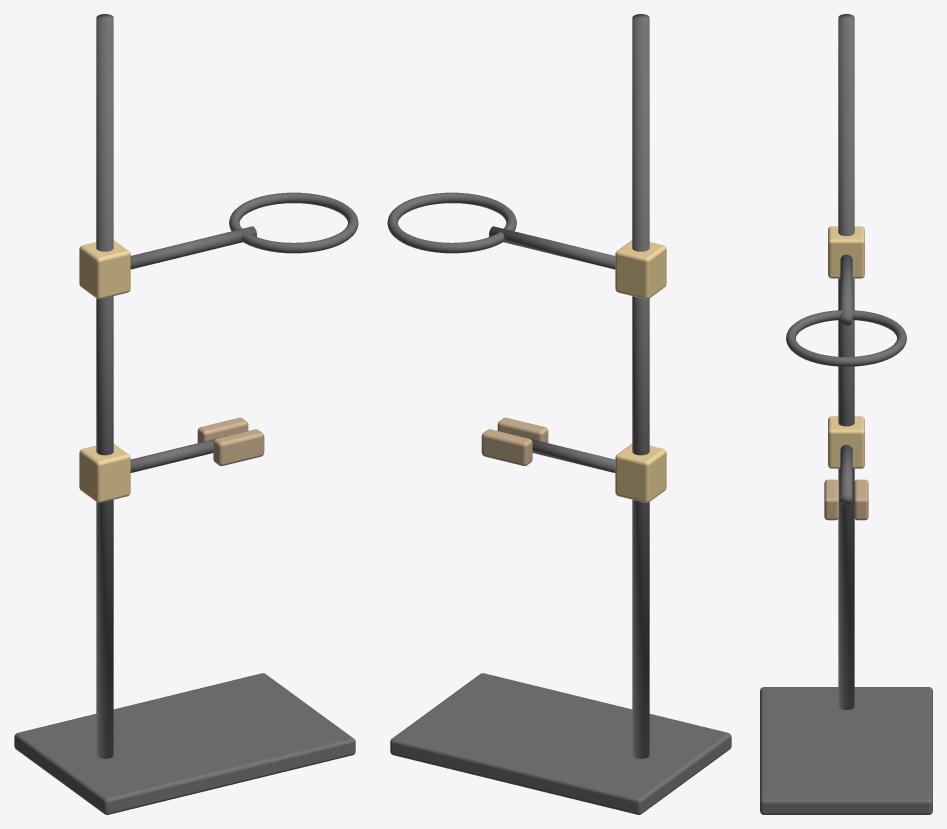
Rendered from science_retort_stand.gltf.
3 renders of one model, left to right at view 1: azimuth 30°, elevation 25°; view 2: azimuth 150°, elevation 25°; view 3: azimuth 270°, elevation 25°, orthographic. The views are drawn at different scales.
Parts seen in each view (by area): view 1: BasePlate, Rod, Ring0.42, Boss0.42, Boss0.25, Arm0.42, ClampJawB0.25, Arm0.25, ClampJaw0.25; view 2: BasePlate, Rod, Ring0.42, Boss0.42, Boss0.25, Arm0.42, ClampJaw0.25, Arm0.25, ClampJawB0.25; view 3: BasePlate, Rod, Ring0.42, Boss0.25, Boss0.42, Arm0.42, Arm0.25, ClampJaw0.25, ClampJawB0.25.
Boxes of the visible parts, x1,y1,x2,y2 form: BasePlate: (14, 673, 355, 814); Rod: (96, 14, 113, 758); Ring0.42: (229, 192, 358, 253); Boss0.42: (79, 240, 130, 299); Boss0.25: (79, 444, 130, 502); Arm0.42: (130, 226, 256, 269); ClampJawB0.25: (213, 429, 264, 465); Arm0.25: (130, 435, 228, 472); ClampJaw0.25: (197, 417, 248, 442); BasePlate: (390, 673, 731, 814); Rod: (632, 14, 649, 758); Ring0.42: (387, 192, 516, 253); Boss0.42: (615, 240, 666, 299); Boss0.25: (615, 444, 666, 502); Arm0.42: (489, 226, 615, 269); ClampJaw0.25: (481, 429, 532, 465); Arm0.25: (517, 435, 615, 472); ClampJawB0.25: (497, 417, 548, 442); BasePlate: (760, 687, 932, 814); Rod: (838, 14, 854, 709); Ring0.42: (786, 310, 906, 366); Boss0.25: (828, 416, 864, 468); Boss0.42: (828, 226, 864, 278); Arm0.42: (840, 254, 852, 325); Arm0.25: (840, 445, 852, 505); ClampJaw0.25: (854, 479, 868, 520); ClampJawB0.25: (824, 479, 838, 520).
Bounding box in the file's own units: 0.254 × 0.63 × 0.14.
